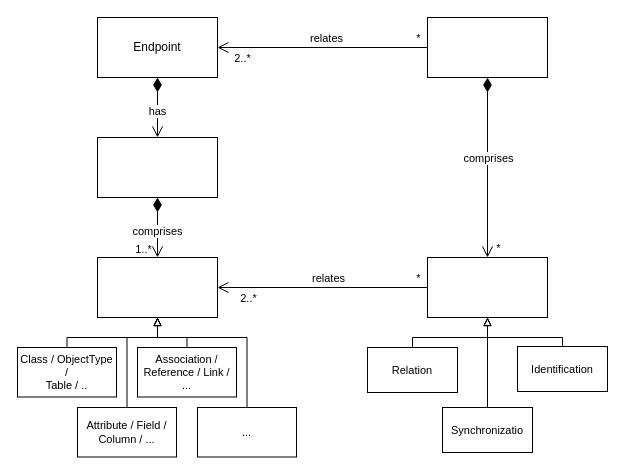
Image size: 625x475. Some labels were removed from this diagram. The box of each missing label's shape, as (x1, y1, x2, y2) in pixels:
Commonality: (426, 256, 548, 318)
Correspondence: (426, 16, 548, 78)
Element: (96, 256, 218, 318)
Schema: (96, 136, 218, 198)
